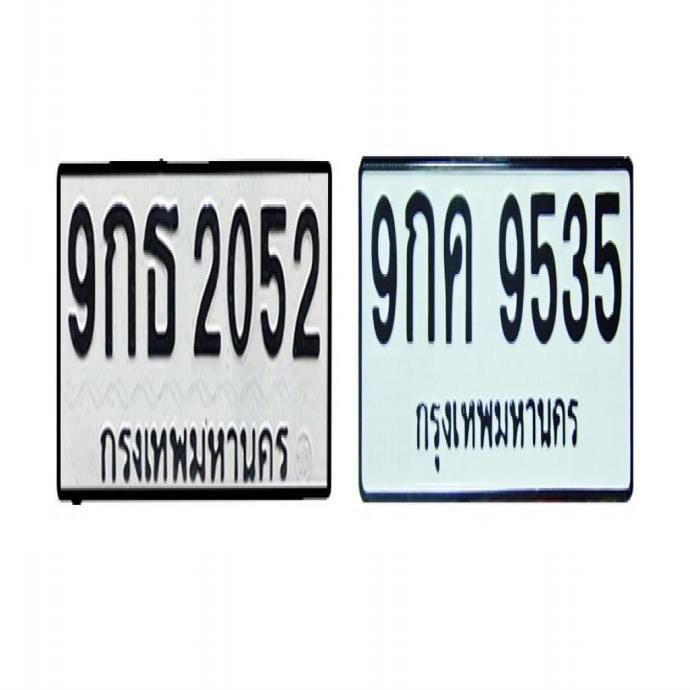0: (224, 202, 251, 357)
2: (291, 203, 321, 359), (191, 203, 220, 357)
3: (559, 189, 587, 345)
5: (592, 187, 621, 345), (528, 189, 555, 345), (259, 203, 286, 359)
9: (66, 199, 95, 358), (497, 191, 524, 345), (370, 191, 397, 342)
A01: (101, 201, 135, 359), (403, 188, 435, 344)
A04: (441, 192, 472, 344)
A24: (142, 202, 178, 358)
BKK: (92, 409, 293, 496), (406, 381, 584, 476)
